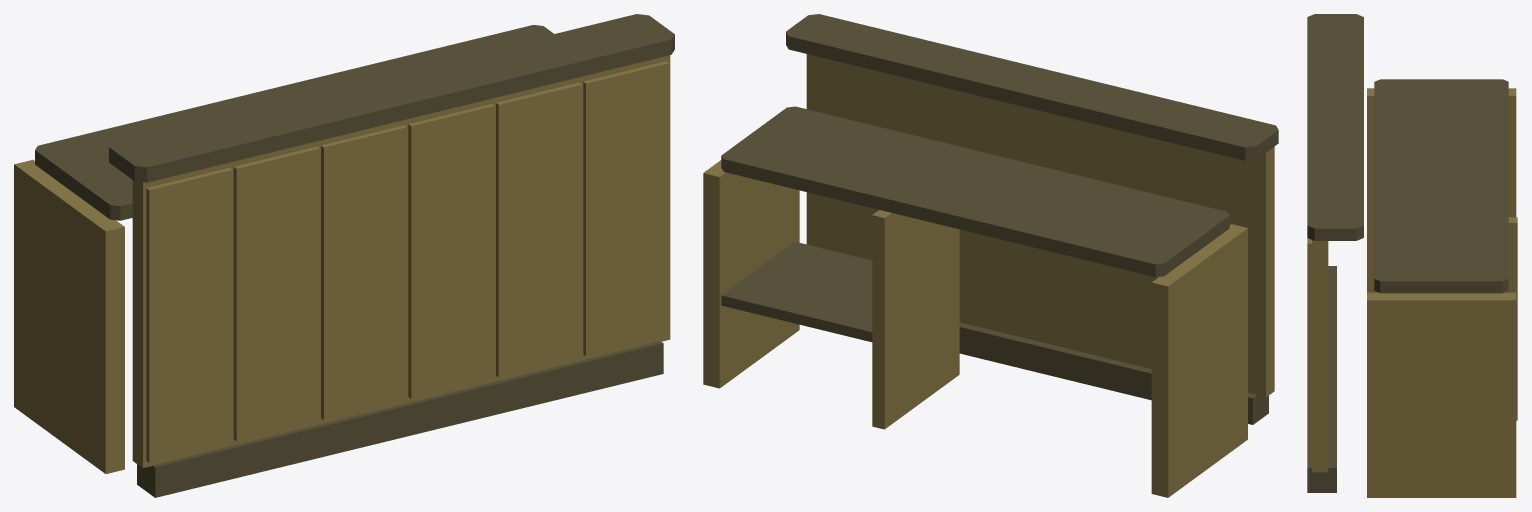
The model's file is reception_small.glb.
3 views of the same model, side by side, from view 1: azimuth 30°, elevation 25°; view 2: azimuth 150°, elevation 25°; view 3: azimuth 270°, elevation 25° (orthographic). The views are drawn at different scales.
Parts seen in each view (by area): view 1: Lateral, Encimera pública, Listón.001, Listón.002, Listón, Listón.003, Listón.004, Listón.005, Zócalo, Frente, Mesa trabajo; view 2: Frente, Mesa trabajo, Lateral, Encimera pública, Divisor, Lateral.001, Estante, Zócalo; view 3: Lateral.001, Mesa trabajo, Encimera pública, Frente, Lateral, Zócalo, Listón.005, Divisor.
Boxes of the visible parts, x1,y1,x2,y2 form: Lateral: [14, 160, 124, 473]; Encimera pública: [109, 14, 674, 182]; Listón.001: [233, 146, 319, 441]; Listón.002: [321, 125, 407, 419]; Listón: [146, 168, 232, 462]; Listón.003: [408, 104, 494, 398]; Listón.004: [496, 82, 582, 377]; Listón.005: [583, 61, 669, 356]; Zócalo: [137, 341, 663, 497]; Frente: [132, 55, 670, 467]; Mesa trabajo: [35, 25, 553, 220]; Frente: [806, 54, 1274, 397]; Mesa trabajo: [721, 106, 1229, 277]; Lateral: [1151, 224, 1247, 497]; Encimera pública: [786, 14, 1278, 160]; Divisor: [872, 210, 959, 429]; Lateral.001: [703, 160, 799, 388]; Estante: [721, 241, 872, 342]; Zócalo: [959, 322, 1268, 424]; Lateral.001: [1367, 292, 1516, 497]; Mesa trabajo: [1374, 79, 1508, 293]; Encimera pública: [1307, 14, 1363, 240]; Frente: [1312, 240, 1328, 472]; Lateral: [1367, 88, 1516, 292]; Zócalo: [1307, 266, 1336, 492]; Listón.005: [1307, 238, 1311, 465]; Divisor: [1377, 217, 1517, 420].
Bounding box in the file's own units: 1.7 × 1 × 0.705.
